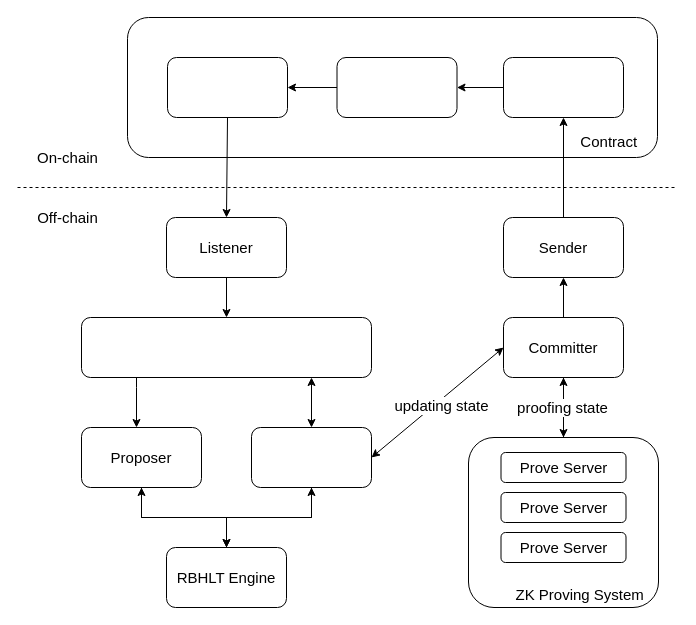
This 696x625 diagram has some shape labels left out. Here are the shapes that lost their labels. From the top down, the centre of each, then its label:
At (227,87): "On-chain Raw Tx".
At (396,87): "Data State".
At (563,87): "Off-chain Raw Tx Data".
At (226,347): "Mem Pool".
At (311,457): "Keeper".
